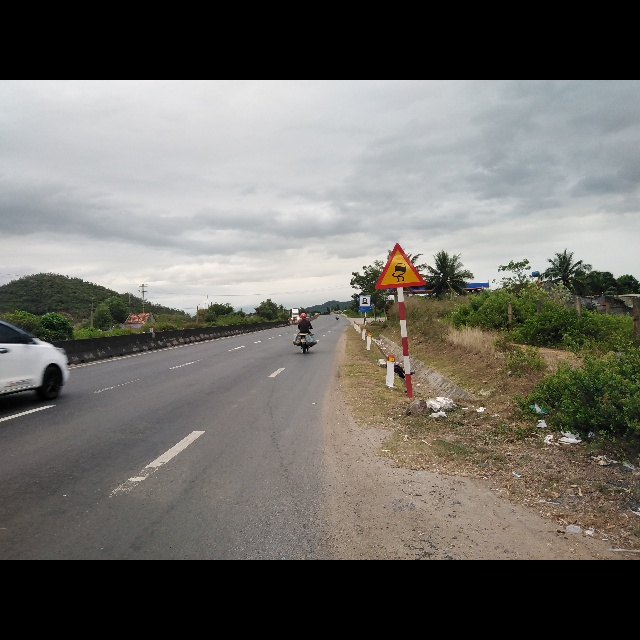Đường trơn trượt: (372, 241, 425, 291)
